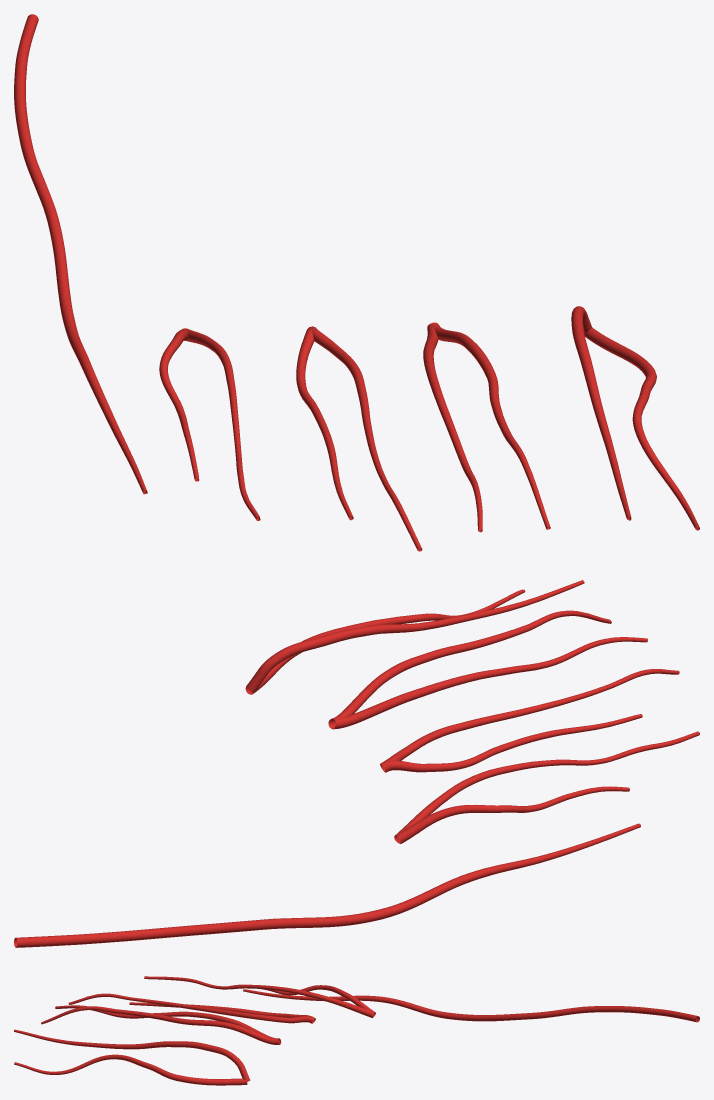
File: circulatorio-proper-plantar-digital-arteries-r.glb
The picture shows the model from 3 angles, top to bottom: view 1: azimuth 30°, elevation 25°; view 2: azimuth 150°, elevation 25°; view 3: azimuth 270°, elevation 25°; orthographic projection. The views are drawn at different scales.
Parts seen in each view (by area): view 1: Proper plantar digital arteries.r; view 2: Proper plantar digital arteries.r; view 3: Proper plantar digital arteries.r.
Part boxes in pixels (x1=…): Proper plantar digital arteries.r: x1=14, y1=14, x2=699, y2=551; Proper plantar digital arteries.r: x1=14, y1=580, x2=699, y2=947; Proper plantar digital arteries.r: x1=14, y1=976, x2=699, y2=1085.
Bounding box in the file's own units: 0.0603 × 0.0131 × 0.1436.
